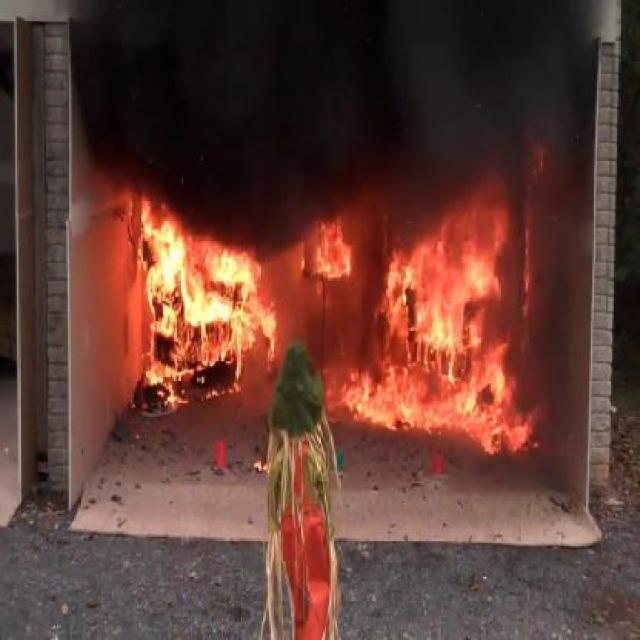fire: (356, 224, 555, 458), (124, 202, 348, 401)
smoke: (99, 19, 524, 208)
